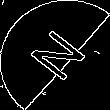N_SE: (20, 23, 90, 87)
